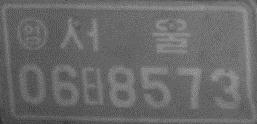0: (18, 62, 47, 105)
3: (210, 67, 242, 110)
5: (139, 65, 171, 107)
6: (50, 62, 79, 107)
7: (176, 65, 204, 110)
8: (107, 64, 136, 107)
서울_D: (58, 15, 192, 54)
영: (15, 16, 48, 51)
타: (80, 66, 105, 105)
